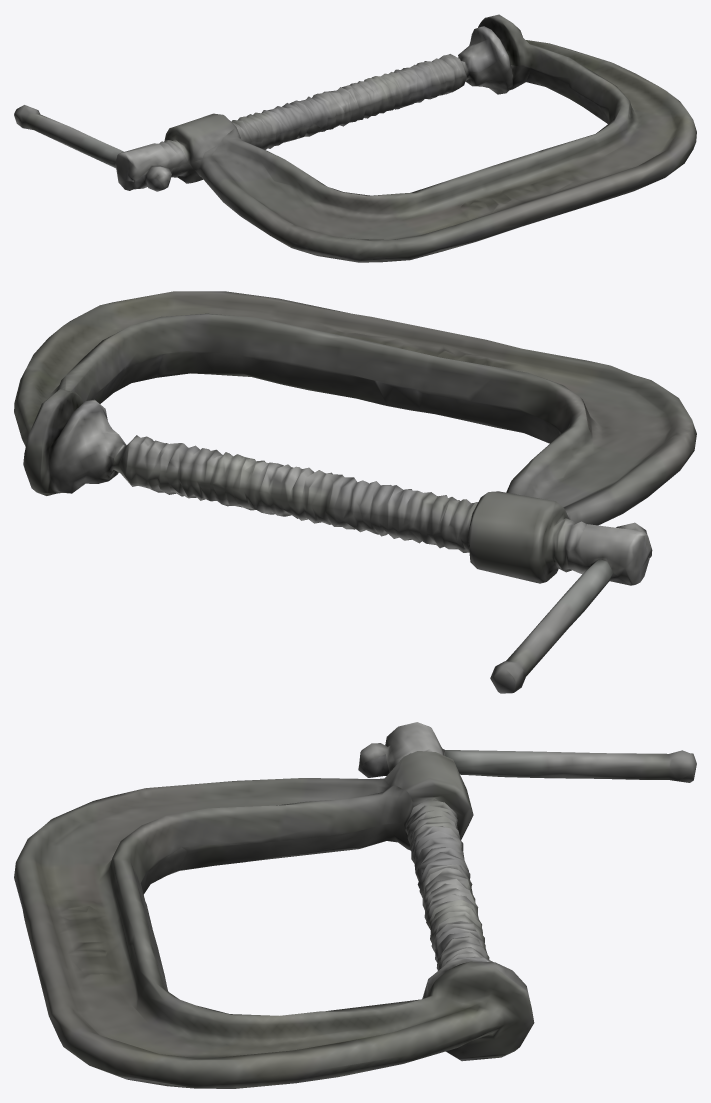
The model's file is gso_pony_c_clamp_1440.glb.
3 renders of one model, top to bottom at view 1: azimuth 30°, elevation 25°; view 2: azimuth 150°, elevation 25°; view 3: azimuth 270°, elevation 25°, orthographic. The views are drawn at different scales.
Visible parts, largest first — view 1: z-up-to-y-up; view 2: z-up-to-y-up; view 3: z-up-to-y-up.
Boxes of the visible parts, <box> form: z-up-to-y-up: <box>14,14,696,262</box>; z-up-to-y-up: <box>14,291,696,693</box>; z-up-to-y-up: <box>14,722,696,1088</box>.
Bounding box in the file's own units: 0.2014 × 0.027 × 0.1728.
1 material, 1 textured.
